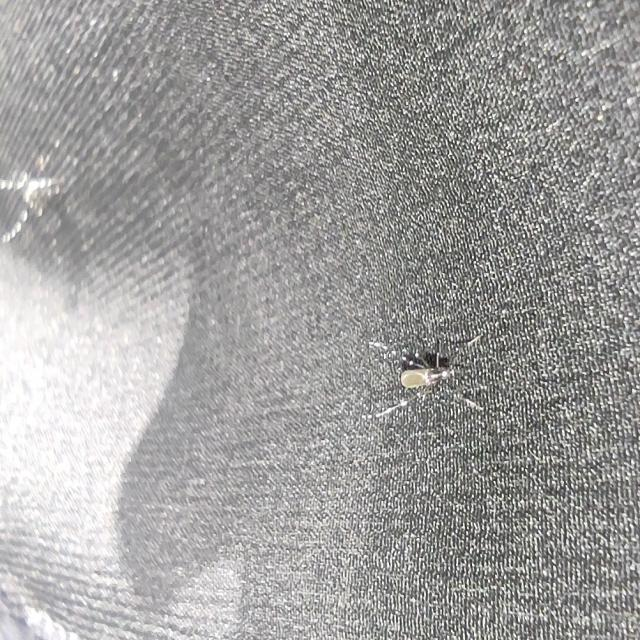albopictus: (361, 321, 492, 441)
